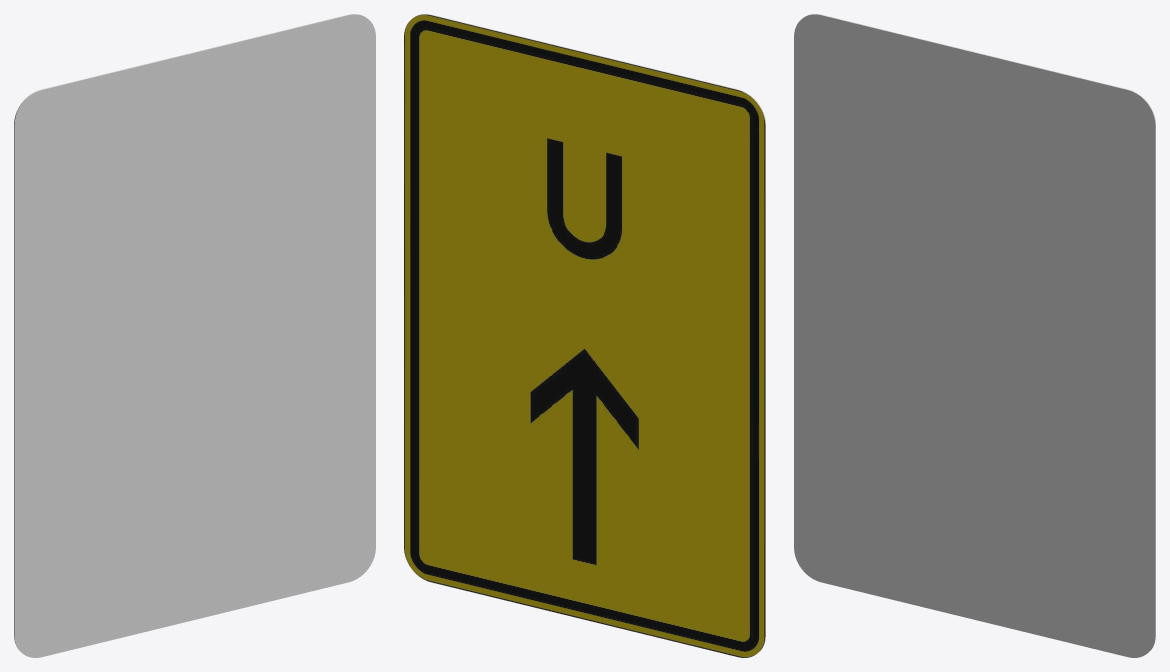
3 renders of one model, left to right at view 1: azimuth 30°, elevation 25°; view 2: azimuth 150°, elevation 25°; view 3: azimuth 330°, elevation 25°, orthographic.
Parts seen in each view (by area): view 1: Plane; view 2: Plane; view 3: Plane.
Part boxes in pixels (bbox=[...]): Plane: bbox=[14, 14, 375, 657]; Plane: bbox=[404, 14, 765, 657]; Plane: bbox=[794, 14, 1155, 657].
Size of the model in its own units: 0.6 by 0.9 by 0.002.
2 materials, 1 textured.
